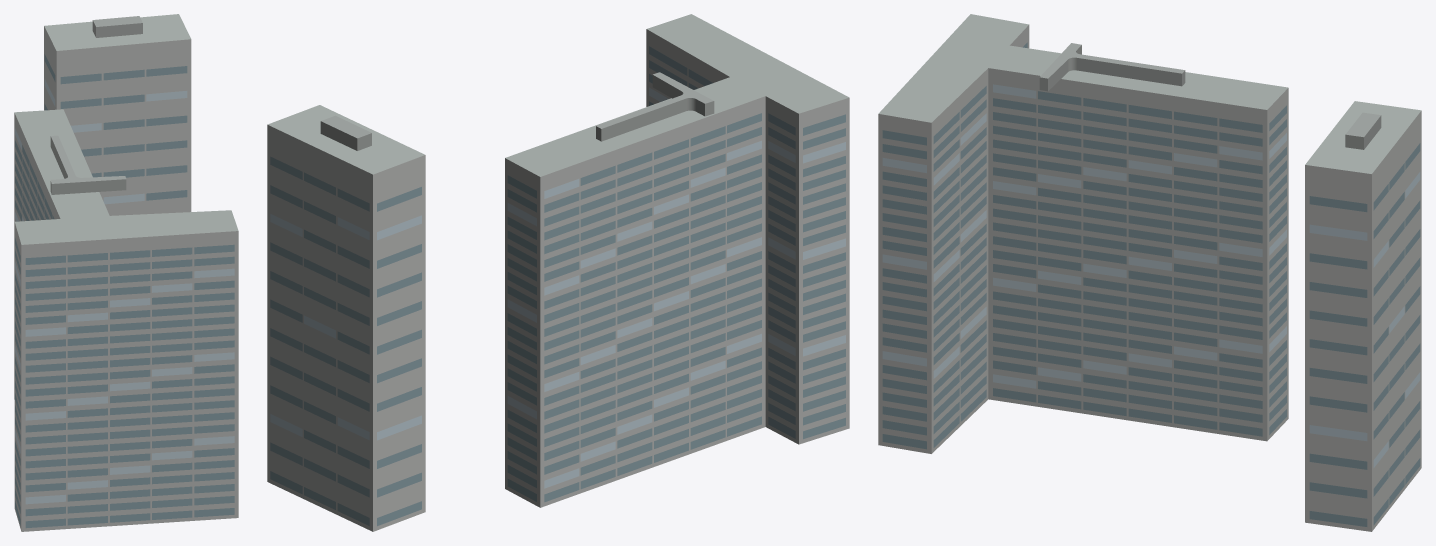
File: apt-a15209304.glb
3 renders of one model, left to right at view 1: azimuth 30°, elevation 25°; view 2: azimuth 150°, elevation 25°; view 3: azimuth 270°, elevation 25°, orthographic. The views are drawn at different scales.
Visible parts, largest first — view 1: apt-a15209304; view 2: apt-a15209304; view 3: apt-a15209304.
Part boxes in pixels (left/top/right/bottom): apt-a15209304: left=14, top=14, right=238, bottom=531; apt-a15209304: left=267, top=14, right=849, bottom=531; apt-a15209304: left=878, top=14, right=1421, bottom=531.
Bounding box in the file's own units: 75.62 × 70 × 93.03.
